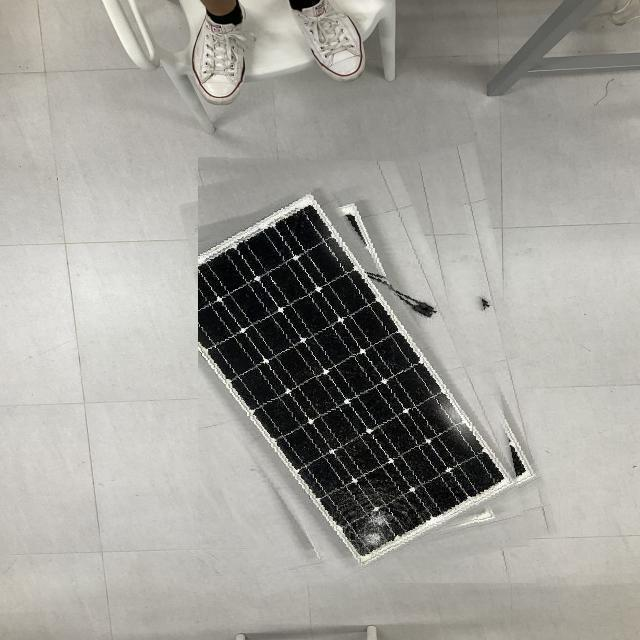Photovoltaic-Panel: (198, 155, 538, 583)
